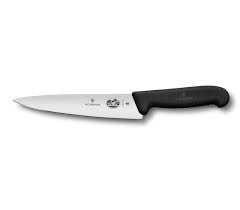knife: (10, 81, 234, 122)
